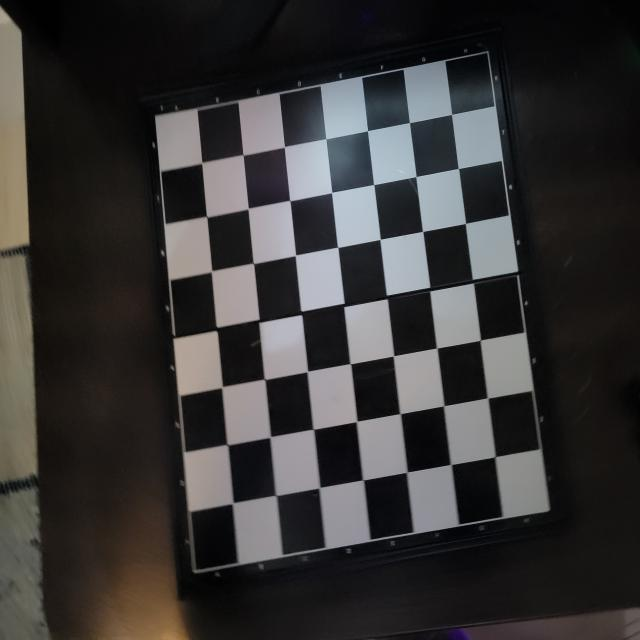chess-board: (144, 38, 563, 589)
